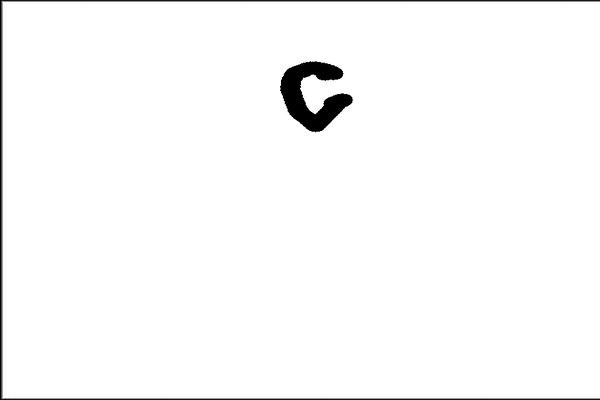C: (275, 56, 354, 134)
